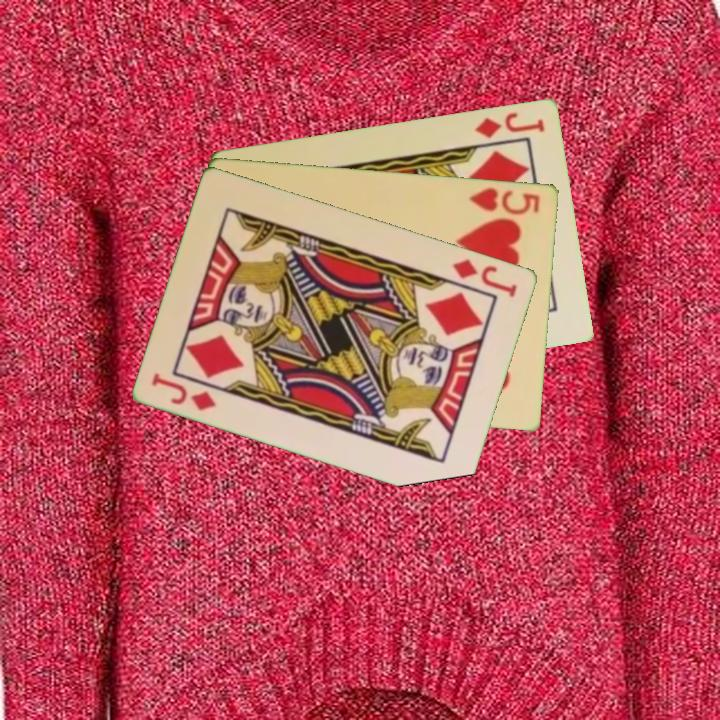5h: (466, 184, 543, 217)
Jd: (449, 255, 521, 300), (148, 369, 220, 414), (471, 108, 548, 140)
